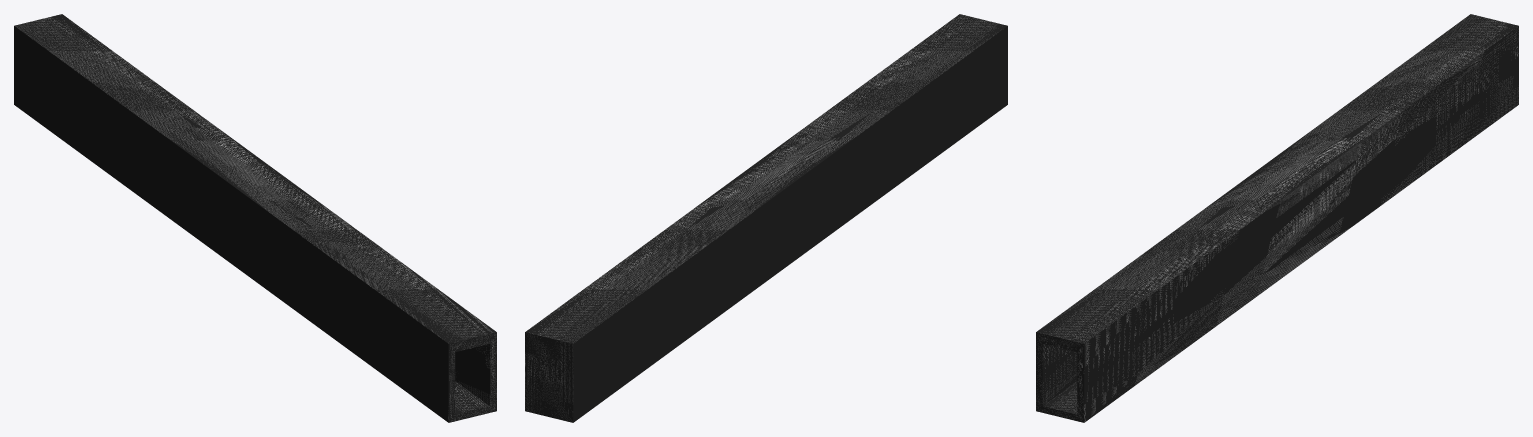
The picture shows the model from 3 angles, left to right: view 1: azimuth 30°, elevation 25°; view 2: azimuth 150°, elevation 25°; view 3: azimuth 330°, elevation 25°; orthographic projection.
Size of the model in its own units: 0.0373 by 0.0584 by 0.5828.
